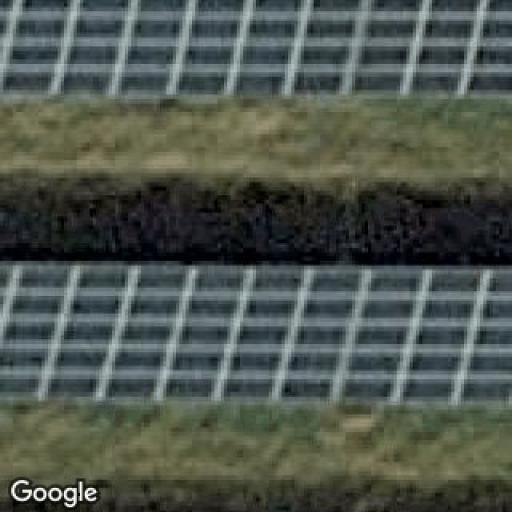solar-panel: (0, 262, 512, 410), (0, 0, 512, 102)
